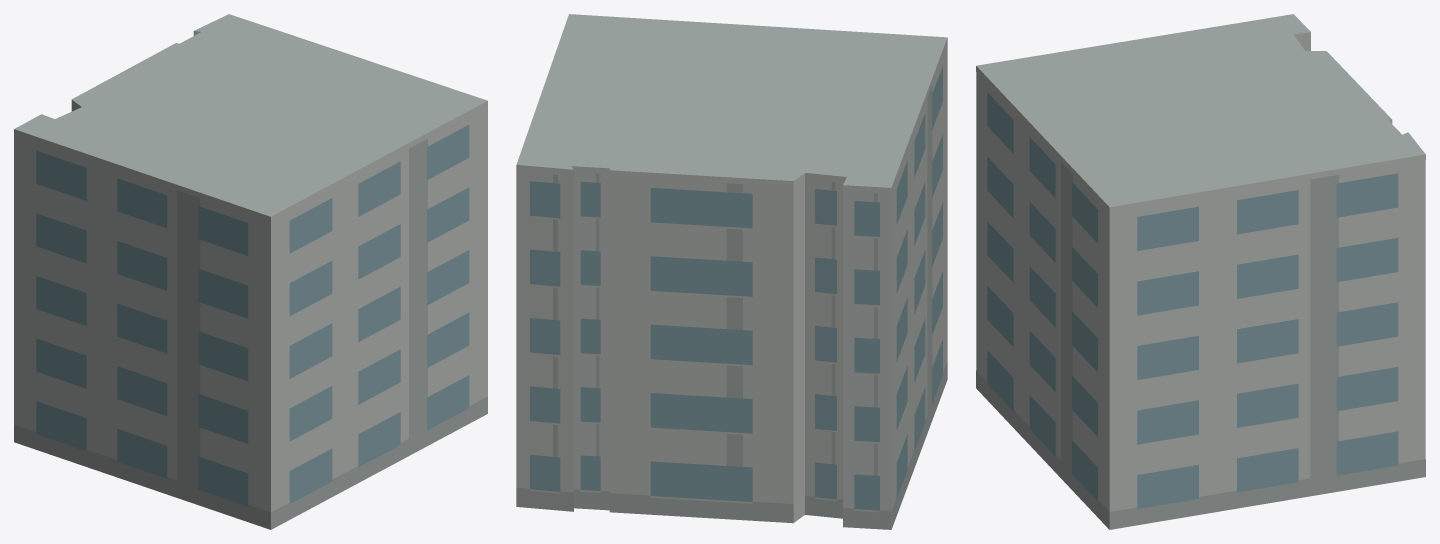
Rendered from survey-upis-32956390.glb.
The picture shows the model from 3 angles, left to right: view 1: azimuth 30°, elevation 25°; view 2: azimuth 150°, elevation 25°; view 3: azimuth 270°, elevation 25°; orthographic projection. The views are drawn at different scales.
Visible parts, largest first — view 1: survey-upis-32956390.tmp; view 2: survey-upis-32956390.tmp; view 3: survey-upis-32956390.tmp.
Part boxes in pixels (left/top/right/bottom): survey-upis-32956390.tmp: left=14, top=14, right=487, bottom=529; survey-upis-32956390.tmp: left=516, top=14, right=947, bottom=529; survey-upis-32956390.tmp: left=976, top=14, right=1425, bottom=529.
Bounding box in the file's own units: 17.42 × 13.55 × 17.13.
